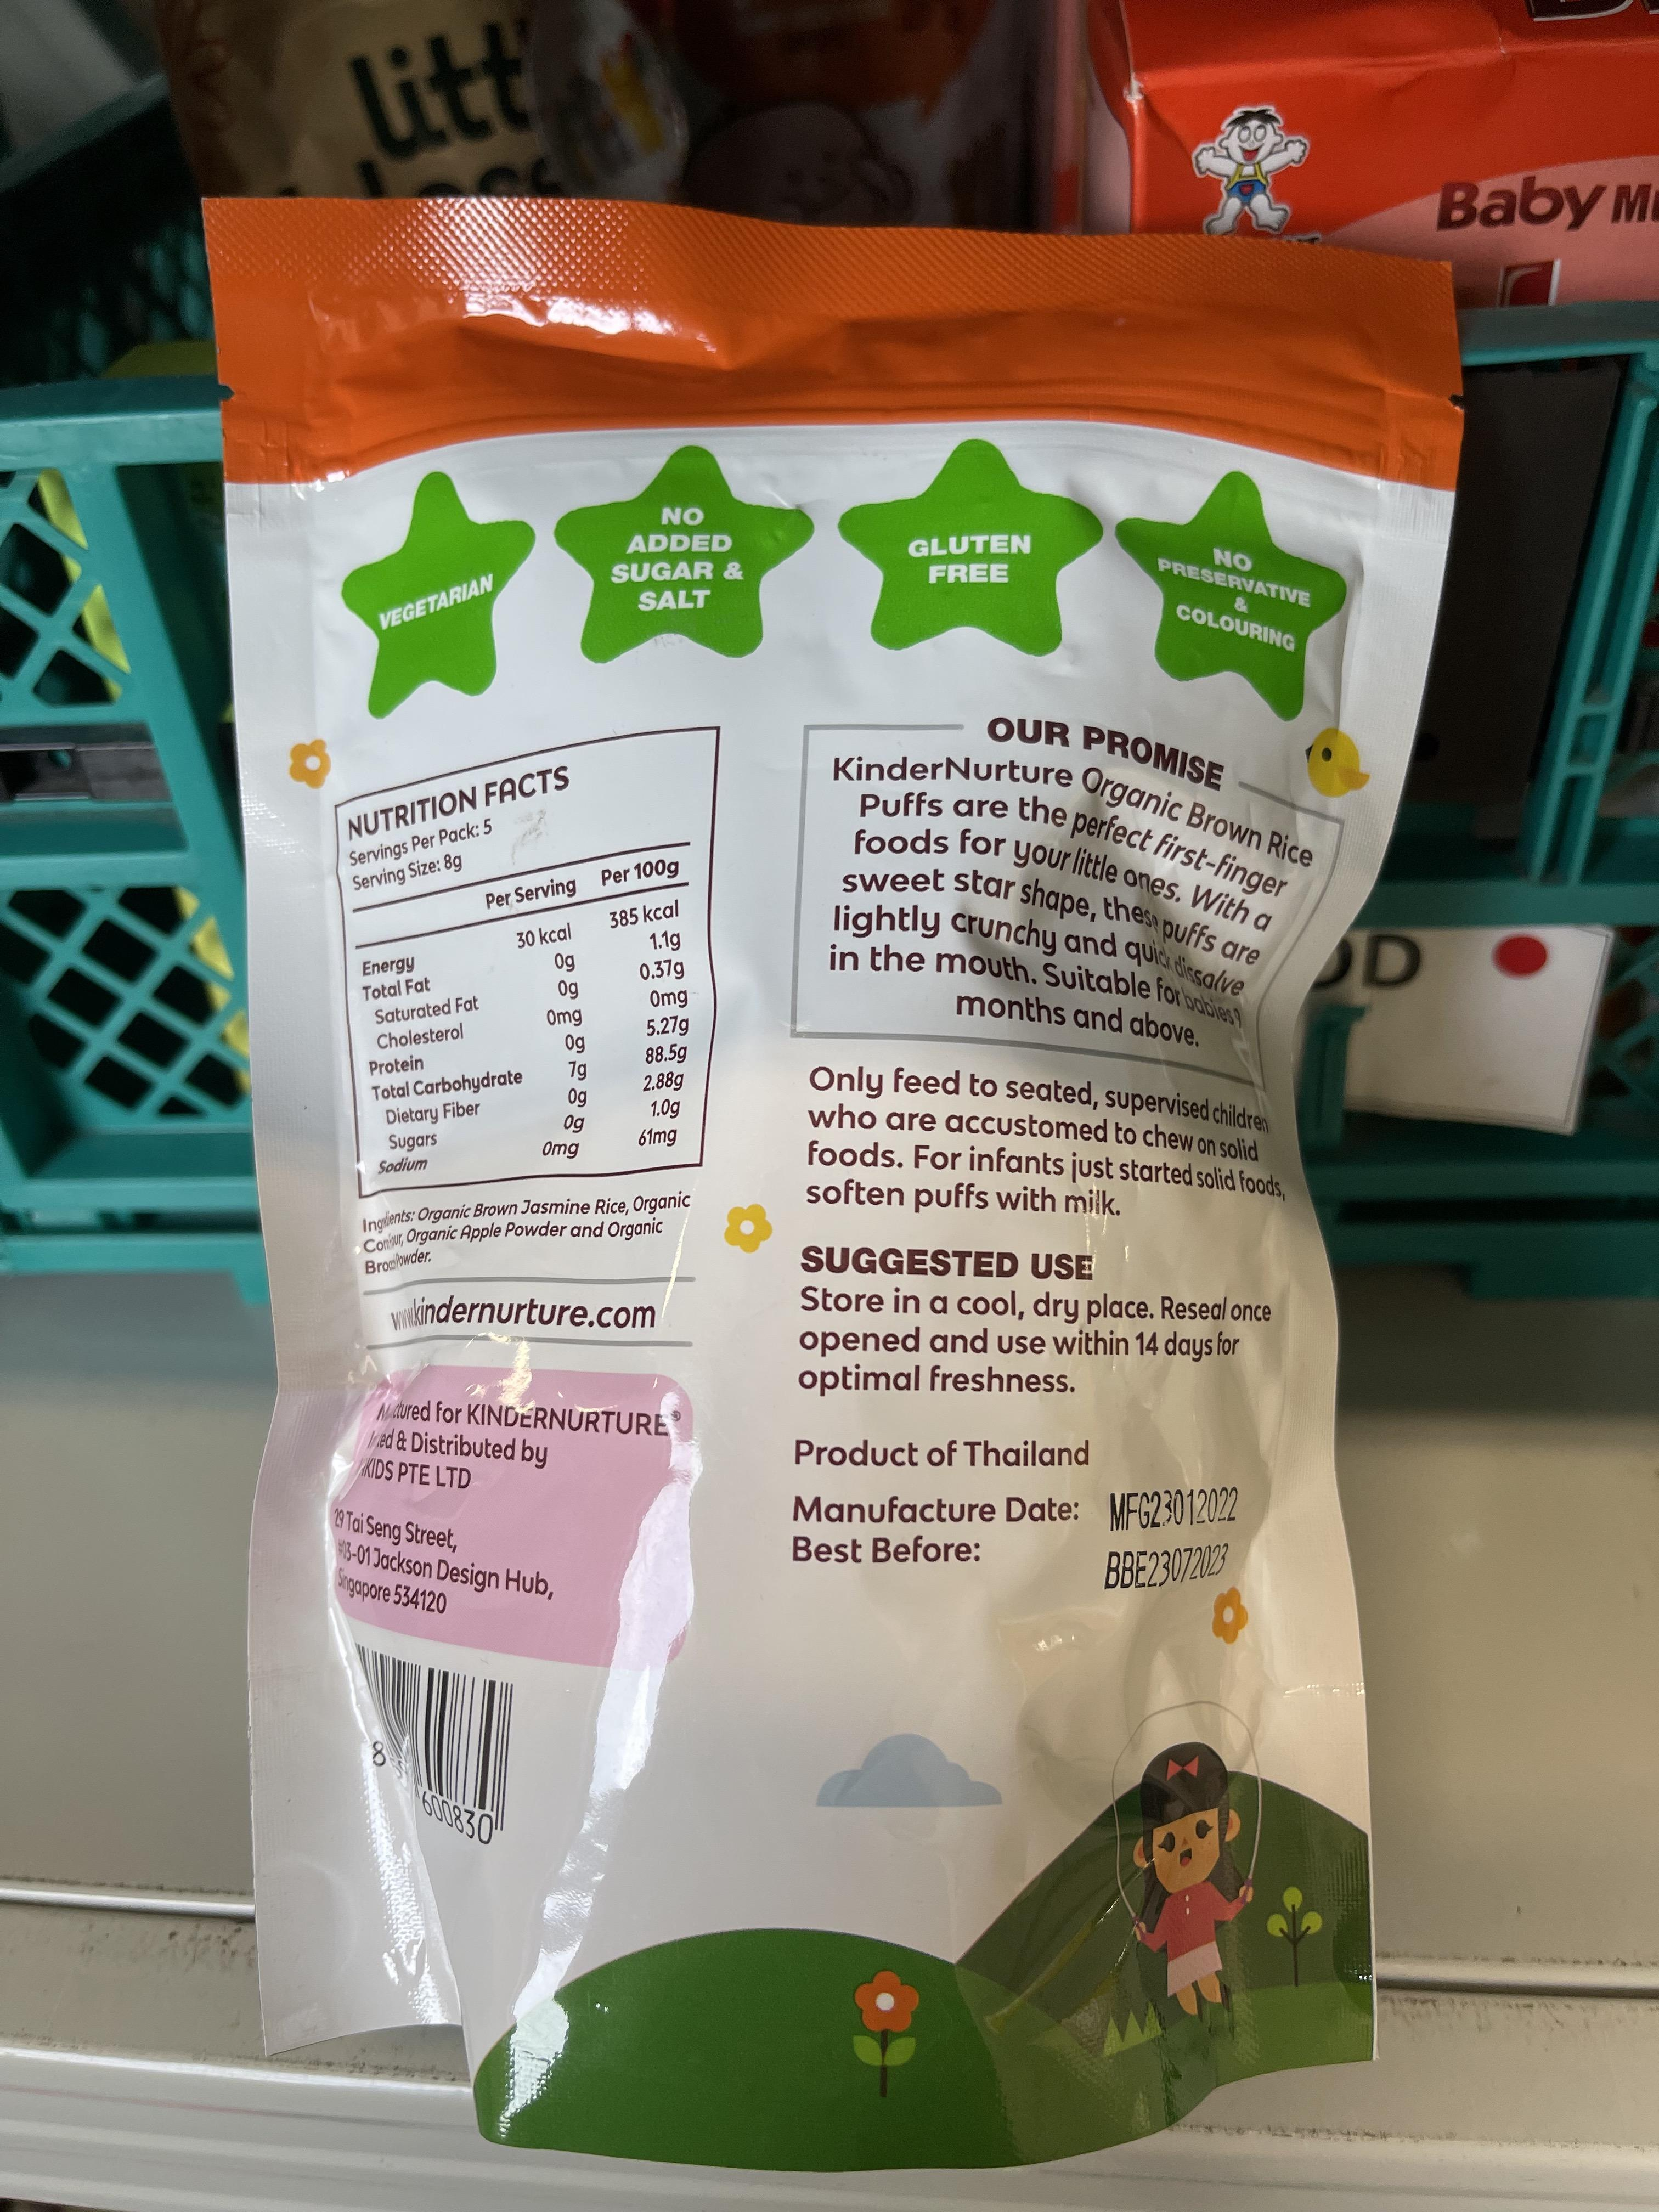object_name: (307, 263, 1443, 2012)
